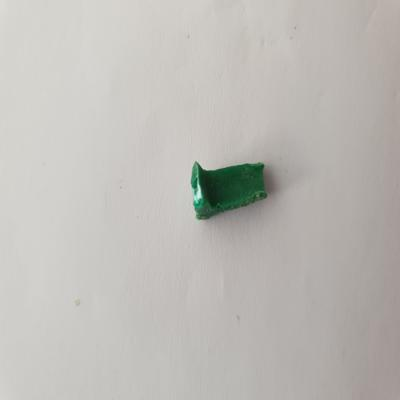plastic: (186, 157, 272, 224)
